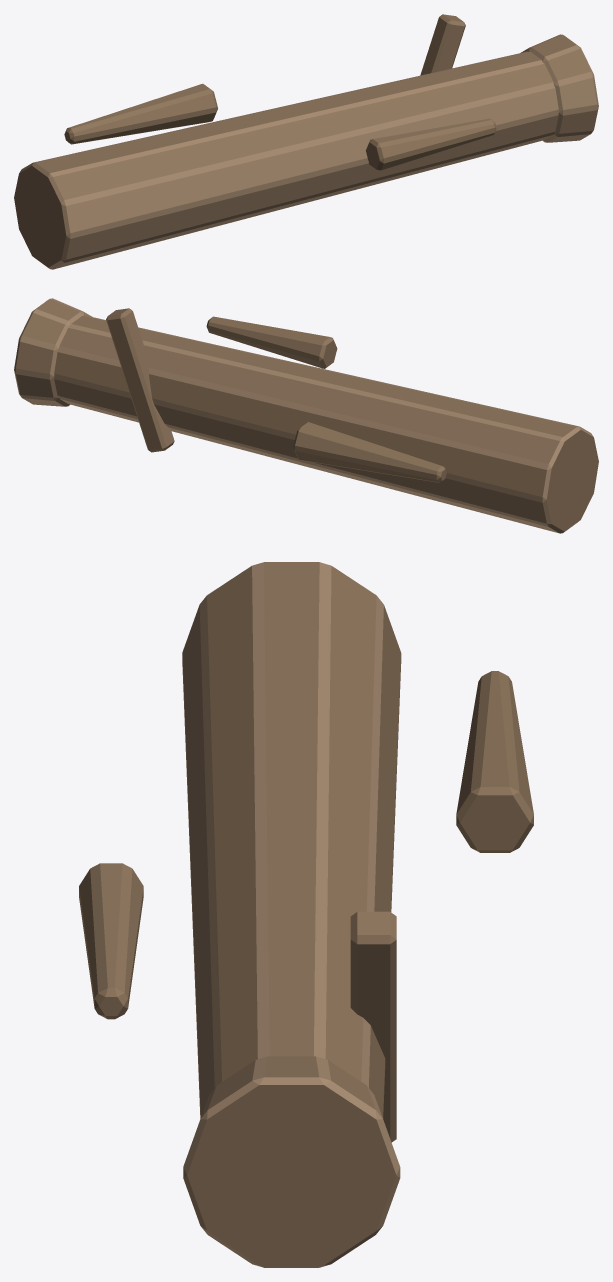
The picture shows the model from 3 angles, top to bottom: view 1: azimuth 30°, elevation 25°; view 2: azimuth 150°, elevation 25°; view 3: azimuth 270°, elevation 25°; orthographic projection. The views are drawn at different scales.
Visible parts, largest first — view 1: 主干.001, 断枝.001; view 2: 主干.001, 断枝.001; view 3: 主干.001, 断枝.001.
Part boxes in pixels (x1,y1,x2,y2): 主干.001: (14, 34, 598, 269); 断枝.001: (64, 14, 496, 171); 主干.001: (14, 298, 598, 533); 断枝.001: (106, 308, 446, 482); 主干.001: (182, 562, 401, 1267); 断枝.001: (79, 671, 533, 1142).
Bounding box in the file's own units: 375 × 87.99 × 139.
